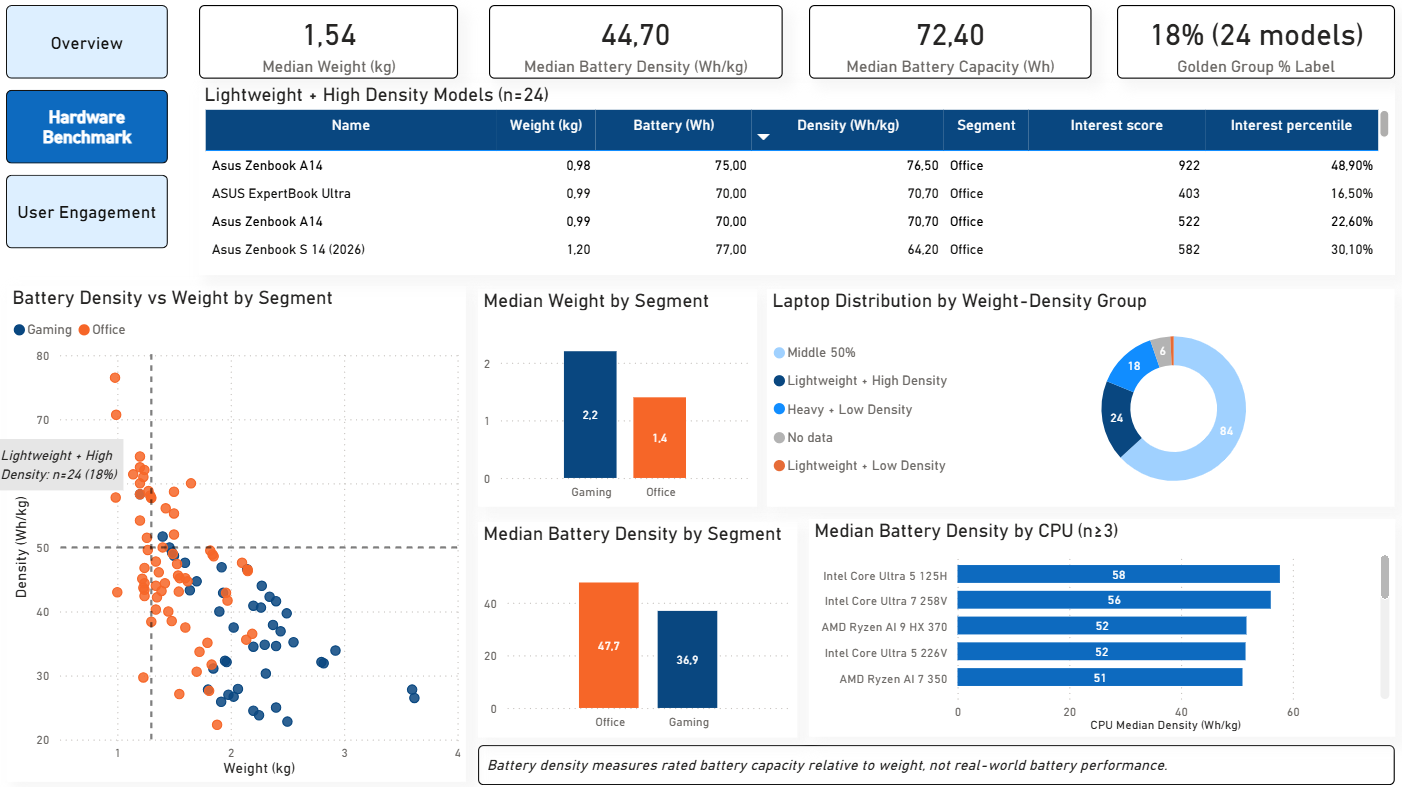

The page's visual inventory and layout, read from the dashboard file:
{"tool":"powerbi","page":{"name":"Hardware Benchmark","canvas":[1280,720],"ordinal":1},"visuals":[{"type":"textbox","box":[442.6,672.1,820.9,36],"z":0},{"type":"card","fields":{"Values":["_Measures.Median Weight (kg)"]},"box":[192.6,9.7,232.5,66.1],"z":1000},{"type":"card","fields":{"Values":["_Measures.Golden Group % Label"]},"box":[1014.5,9.7,249,66.1],"z":2000},{"type":"card","fields":{"Values":["_Measures.Median Battery Density (Wh/kg)"]},"box":[452.3,9.7,262.6,66.1],"z":3000},{"type":"card","fields":{"Values":["_Measures.Median Battery Capacity (Wh)"]},"box":[739.2,9.7,252.9,66.1],"z":4000},{"type":"scatterChart","title":"Battery Density vs Weight by Segment","fields":{"X":["dashboard_laptop.weight_kg"],"Y":["dashboard_laptop.density_wh_kg"],"Series":["dashboard_laptop.segment"]},"box":[20.4,261.6,411.4,444.5],"z":5000},{"type":"textbox","box":[10,398.2,114.5,46.4],"z":6000},{"type":"clusteredColumnChart","title":"Median Weight by Segment","fields":{"Category":["dashboard_laptop.segment"],"Y":["_Measures.Median Weight (kg)"]},"box":[442.4,264.2,249.9,195.2],"z":7000},{"type":"clusteredColumnChart","title":"Median Battery Density by Segment","fields":{"Category":["dashboard_laptop.segment"],"Y":["_Measures.Median Battery Density (Wh/kg)"]},"box":[442.4,472.8,285.7,192.5],"z":8000},{"type":"tableEx","title":"Lightweight + High Density Models (n=24)","fields":{"Values":["dashboard_laptop.name","dashboard_laptop.weight_kg","dashboard_laptop.battery_wh","dashboard_laptop.density_wh_kg","dashboard_laptop.segment","dashboard_laptop.interest_score","dashboard_laptop.interest_percentile"]},"box":[192.7,80,1070.9,171.8],"z":9000},{"type":"donutChart","title":"Laptop Distribution by Weight-Density Group","fields":{"Category":["dashboard_laptop.golden_group"],"Y":["_Measures.Laptop Count"]},"box":[701.2,264.2,562.4,195.2],"z":10000},{"type":"clusteredBarChart","title":"Median Battery Density by CPU (n≥3)","fields":{"Category":["dashboard_battery_density_by_cpu.name_cpu"],"Y":["_Measures.CPU Median Density (Wh/kg)"]},"box":[738.8,470.1,524.8,195.2],"z":11000},{"type":"pageNavigator","box":[20.1,10,145.6,220.9],"z":12000}]}

Visuals, with their boxes in screenshot pixels (x1, y1, x2, y2), scaled from the page's 1280x720 canvas onto the 1402x787 screenshot:
textbox: <region>485, 735, 1384, 774</region>
card - _Measures.Median Weight (kg): <region>211, 11, 466, 83</region>
card - _Measures.Golden Group % Label: <region>1111, 11, 1384, 83</region>
card - _Measures.Median Battery Density (Wh/kg): <region>495, 11, 783, 83</region>
card - _Measures.Median Battery Capacity (Wh): <region>810, 11, 1087, 83</region>
"Battery Density vs Weight by Segment" scatterChart: <region>22, 286, 473, 772</region>
textbox: <region>11, 435, 136, 486</region>
"Median Weight by Segment" clusteredColumnChart: <region>485, 289, 758, 502</region>
"Median Battery Density by Segment" clusteredColumnChart: <region>485, 517, 797, 727</region>
"Lightweight + High Density Models (n=24)" tableEx: <region>211, 87, 1384, 275</region>
"Laptop Distribution by Weight-Density Group" donutChart: <region>768, 289, 1384, 502</region>
"Median Battery Density by CPU (n≥3)" clusteredBarChart: <region>809, 514, 1384, 727</region>
pageNavigator: <region>22, 11, 181, 252</region>
